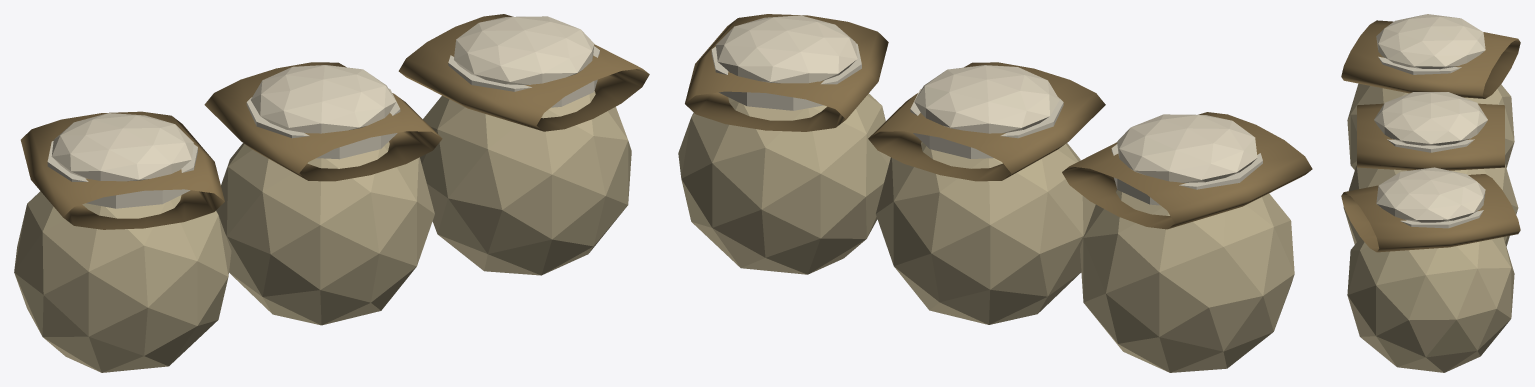
File: pile-flour-3.gltf
The picture shows the model from 3 angles, left to right: view 1: azimuth 30°, elevation 25°; view 2: azimuth 150°, elevation 25°; view 3: azimuth 270°, elevation 25°; orthographic projection. The views are drawn at different scales.
Parts seen in each view (by area): view 1: pile-flour-3; view 2: pile-flour-3; view 3: pile-flour-3.
Part boxes in pixels (x1,y1,x2,y2): pile-flour-3: (14,14,649,372); pile-flour-3: (678,14,1312,372); pile-flour-3: (1341,14,1520,372).
Size of the model in its own units: 0.7915 by 0.3065 by 0.267.
